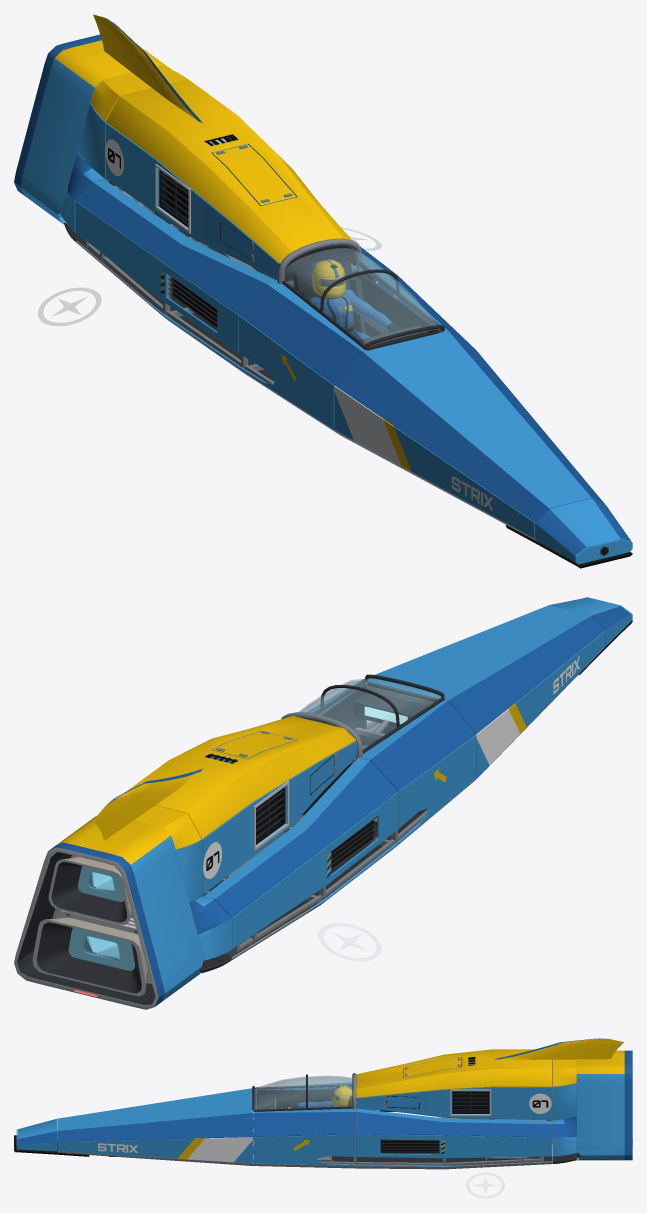
Rendered from strix_core.fbx.
The picture shows the model from 3 angles, top to bottom: view 1: azimuth 30°, elevation 25°; view 2: azimuth 150°, elevation 25°; view 3: azimuth 270°, elevation 25°; orthographic projection. The views are drawn at different scales.
Parts seen in each view (by area): view 1: Nose_Top, Spine_Top, Engine_Shroud, Canopy, Deck_L, Nose_Side_L, Cowl_L, Side_L, Spine_Side_L, Nose_Cap, Cockpit_Side_L, Pilot (+15 smaller); view 2: Engine_Shroud, Nose_Top, Spine_Top, Deck_L, Engine_Lower, Side_L, Cowl_L, Canopy, Spine_Side_L, Engine_Upper, Nose_Side_L, Cockpit_Side_L (+16 smaller); view 3: Nose_Top, Engine_Shroud, Spine_Top, Side_R, Deck_R, Nose_Side_R, Spine_Side_R, Canopy, Cockpit_Side_R, Cowl_R, Dorsal_Fin, Tail_Side_R (+16 smaller).
Part boxes in pixels (left/top/right/bottom): Nose_Top: left=334, top=331, right=604, bottom=522; Spine_Top: left=106, top=79, right=351, bottom=263; Engine_Shroud: left=14, top=34, right=170, bottom=224; Canopy: left=284, top=248, right=441, bottom=346; Deck_L: left=75, top=179, right=277, bottom=314; Nose_Side_L: left=334, top=386, right=534, bottom=538; Cowl_L: left=239, top=282, right=367, bottom=385; Side_L: left=75, top=201, right=239, bottom=367; Spine_Side_L: left=105, top=122, right=279, bottom=278; Nose_Cap: left=535, top=498, right=632, bottom=564; Cockpit_Side_L: left=239, top=315, right=334, bottom=429; Pilot: left=310, top=259, right=401, bottom=339; Engine_Shroud: left=14, top=816, right=204, bottom=1009; Nose_Top: left=363, top=605, right=605, bottom=734; Spine_Top: left=126, top=716, right=356, bottom=838; Deck_L: left=204, top=757, right=397, bottom=917; Engine_Lower: left=32, top=910, right=151, bottom=996; Side_L: left=232, top=791, right=398, bottom=948; Cowl_L: left=360, top=700, right=475, bottom=790; Canopy: left=299, top=678, right=441, bottom=749; Spine_Side_L: left=201, top=741, right=356, bottom=895; Engine_Upper: left=48, top=847, right=183, bottom=925; Nose_Side_L: left=476, top=630, right=605, bottom=777; Cockpit_Side_L: left=397, top=735, right=476, bottom=843; Nose_Top: left=57, top=1088, right=252, bottom=1141; Engine_Shroud: left=576, top=1050, right=632, bottom=1160; Spine_Top: left=356, top=1049, right=551, bottom=1097; Side_R: left=356, top=1134, right=551, bottom=1166; Deck_R: left=356, top=1108, right=551, bottom=1137; Nose_Side_R: left=57, top=1137, right=252, bottom=1163; Spine_Side_R: left=356, top=1087, right=551, bottom=1120; Canopy: left=254, top=1076, right=352, bottom=1109; Cockpit_Side_R: left=253, top=1134, right=355, bottom=1165; Cowl_R: left=253, top=1108, right=355, bottom=1136; Dorsal_Fin: left=494, top=1038, right=623, bottom=1060; Tail_Side_R: left=552, top=1083, right=576, bottom=1156.
Size of the model in its own units: 235 by 126 by 631.
